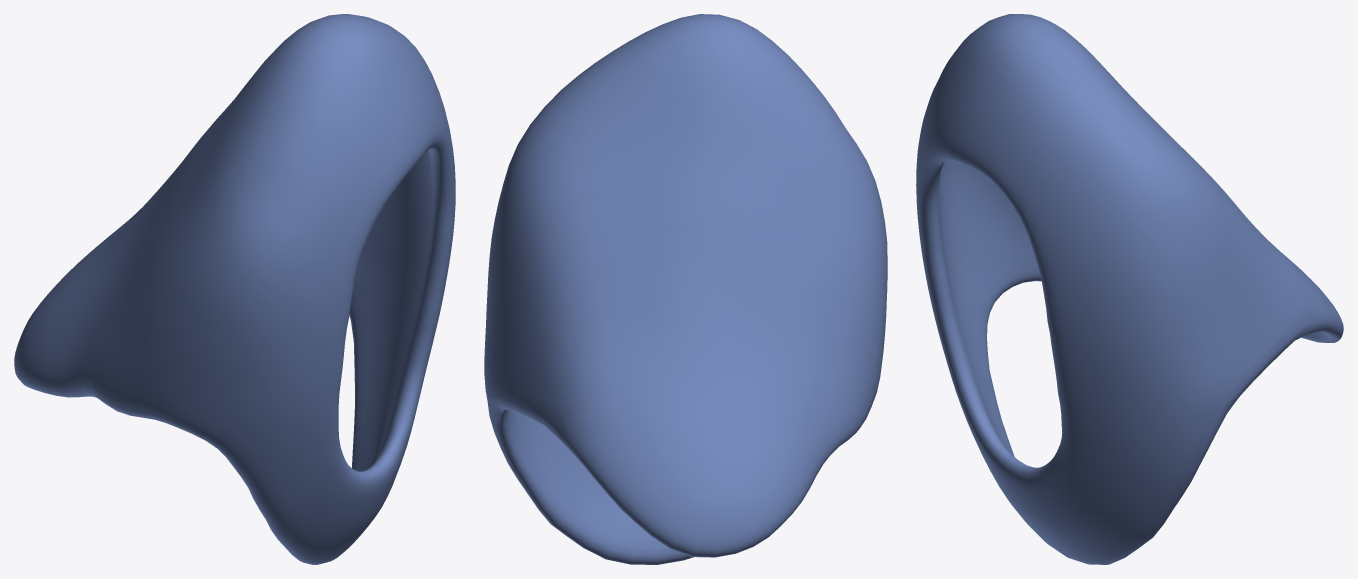
File: BR3_Frame_Classic.001 3.glb
3 renders of one model, left to right at view 1: azimuth 30°, elevation 25°; view 2: azimuth 150°, elevation 25°; view 3: azimuth 270°, elevation 25°, orthographic. The views are drawn at different scales.
Parts seen in each view (by area): view 1: BR3_Frame_Classic.001; view 2: BR3_Frame_Classic.001; view 3: BR3_Frame_Classic.001.
Boxes of the visible parts, x1,y1,x2,y2 form: BR3_Frame_Classic.001: [14, 14, 455, 564]; BR3_Frame_Classic.001: [484, 14, 887, 564]; BR3_Frame_Classic.001: [916, 14, 1343, 564].
Bounding box in the file's own units: 0.7262 × 1.1 × 0.8098.
